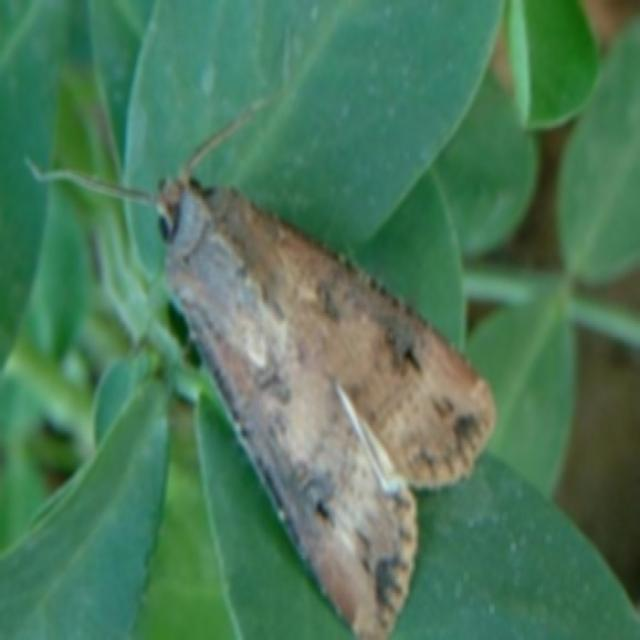black cutworm: (128, 135, 520, 639)
